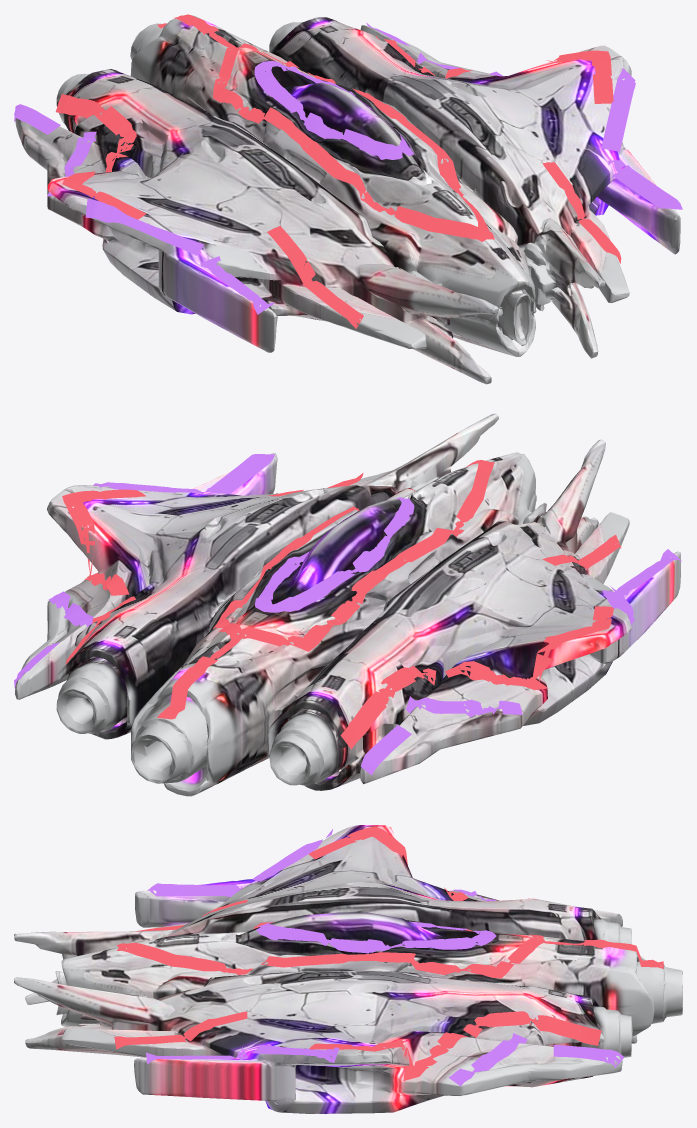
Rendered from megaboss_hq.glb.
3 renders of one model, top to bottom at view 1: azimuth 30°, elevation 25°; view 2: azimuth 150°, elevation 25°; view 3: azimuth 270°, elevation 25°, orthographic. The views are drawn at different scales.
Visible parts, largest first — view 1: hull, glow_red, glow_violet, strip_red, strip_violet; view 2: hull, glow_red, glow_violet, strip_red, strip_violet; view 3: hull, glow_red, glow_violet, strip_red, strip_violet.
Part boxes in pixels (x1,y1,x2,y2): hull: [15, 15, 680, 384]; glow_red: [55, 14, 621, 328]; glow_violet: [14, 22, 682, 314]; strip_red: [57, 15, 616, 323]; strip_violet: [14, 28, 676, 309]; hull: [15, 413, 680, 796]; glow_red: [62, 460, 621, 749]; glow_violet: [14, 454, 681, 775]; strip_red: [67, 460, 619, 743]; strip_violet: [14, 455, 676, 771]; hull: [14, 825, 682, 1113]; glow_red: [114, 826, 663, 1080]; glow_violet: [146, 829, 624, 1086]; strip_red: [115, 829, 663, 1076]; strip_violet: [146, 843, 620, 1082].
Bounding box in the file's own units: 29.99 × 9.47 × 36.49.
5 materials, 1 textured.
